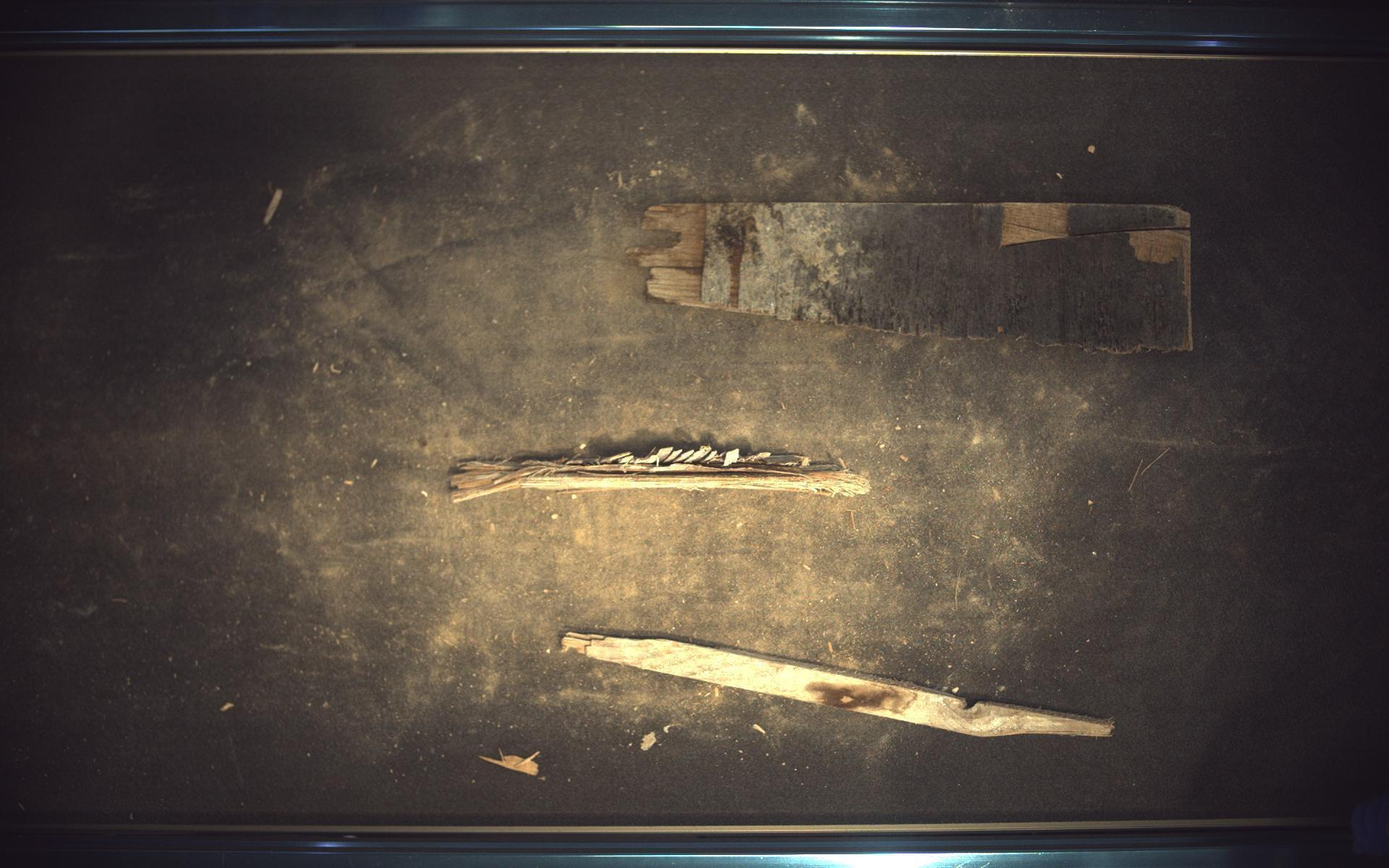wood: (628, 202, 1194, 352), (562, 632, 1116, 739), (451, 445, 872, 503)
